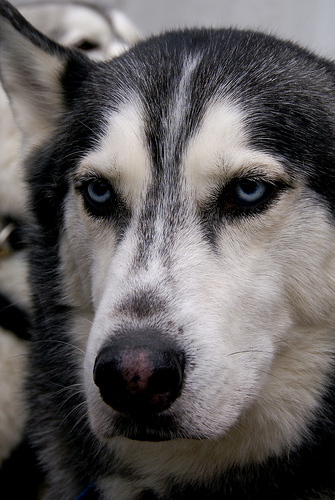dog: (1, 0, 333, 498)
